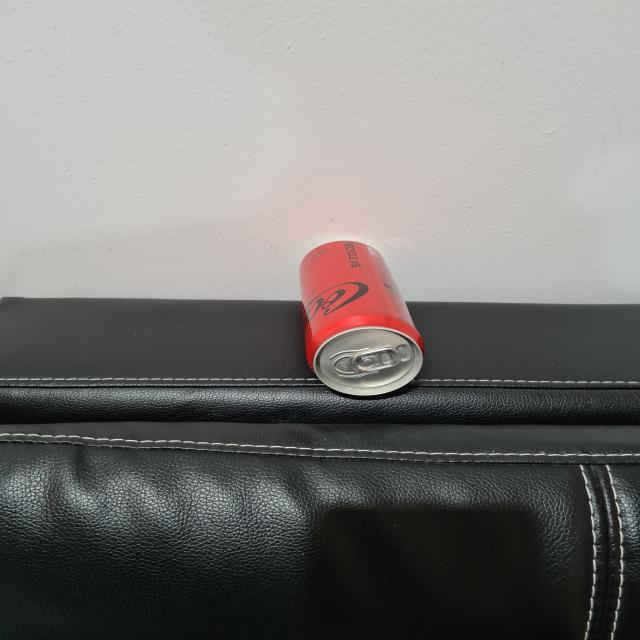non-organic waste: (289, 236, 432, 400)
